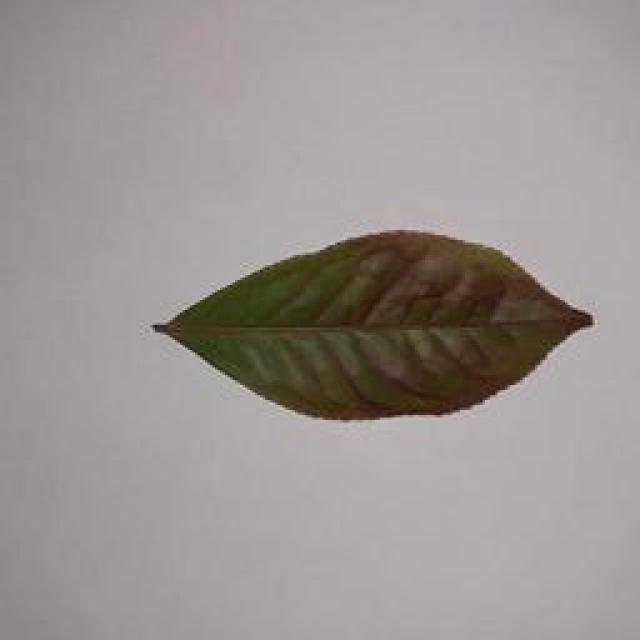Red Leaf Spot: (82, 210, 640, 452)
